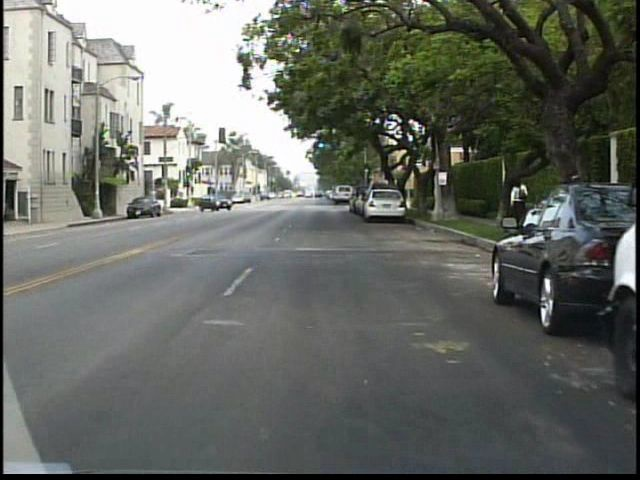person: (505, 172, 533, 235)
